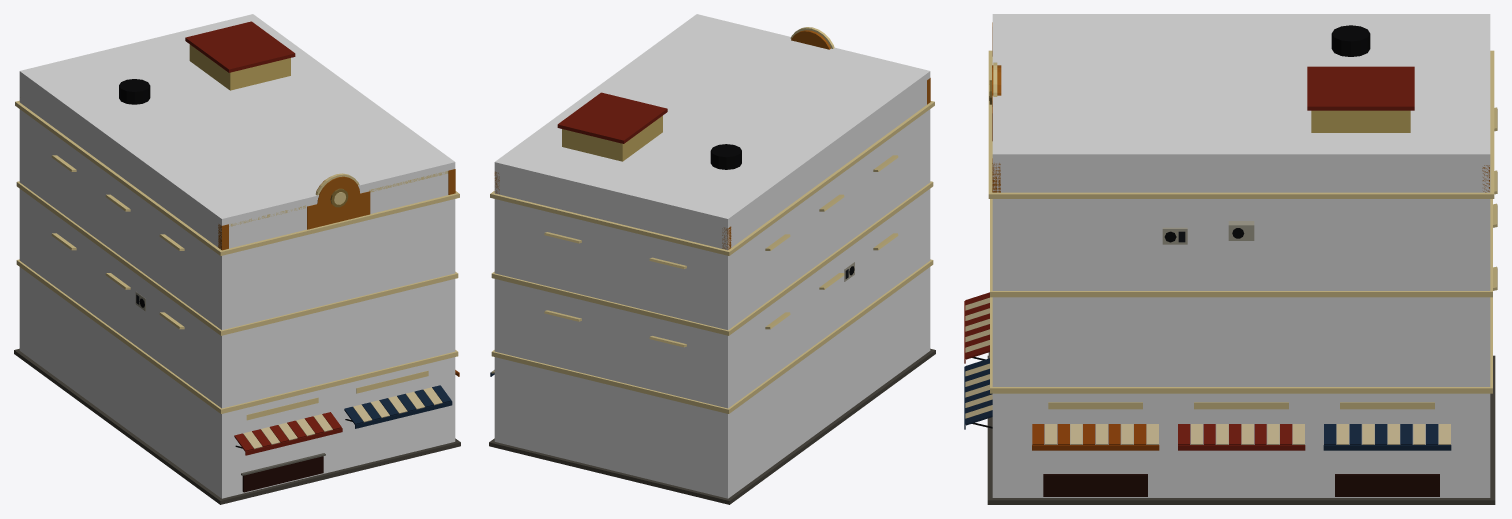
The model's file is B12_mixed_use_shop.glb.
The picture shows the model from 3 angles, left to right: view 1: azimuth 30°, elevation 25°; view 2: azimuth 150°, elevation 25°; view 3: azimuth 270°, elevation 25°; orthographic projection. The views are drawn at different scales.
Parts seen in each view (by area): view 1: COL_Main, LOD0; view 2: COL_Main, LOD0; view 3: COL_Main, LOD0.
Boxes of the visible parts, x1=… form: COL_Main: x1=19, y1=14, x2=455, y2=498; LOD0: x1=14, y1=21, x2=460, y2=504; COL_Main: x1=494, y1=14, x2=930, y2=498; LOD0: x1=489, y1=27, x2=935, y2=504; COL_Main: x1=992, y1=14, x2=1490, y2=497; LOD0: x1=964, y1=22, x2=1497, y2=504.
Size of what is drawn, in the model's own units: 11.08 by 12.54 by 16.08.
